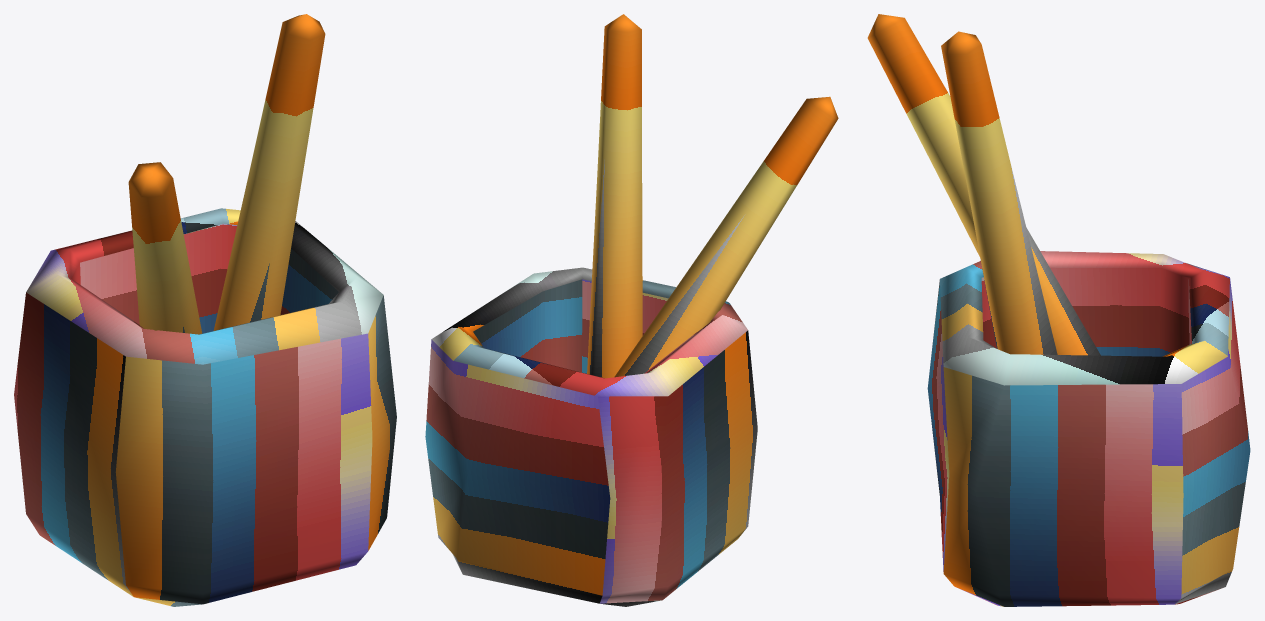
The model's file is P_AP23DecorCup.glb.
The picture shows the model from 3 angles, left to right: view 1: azimuth 30°, elevation 25°; view 2: azimuth 150°, elevation 25°; view 3: azimuth 270°, elevation 25°; orthographic projection. The views are drawn at different scales.
Visible parts, largest first — view 1: P_AP23DecorCup; view 2: P_AP23DecorCup; view 3: P_AP23DecorCup.
Part boxes in pixels (bbox=[...]): P_AP23DecorCup: bbox=[14, 14, 396, 606]; P_AP23DecorCup: bbox=[425, 14, 838, 606]; P_AP23DecorCup: bbox=[867, 14, 1250, 606].
Size of the model in its own units: 0.142 by 0.2442 by 0.1533.
1 material, 1 textured.
